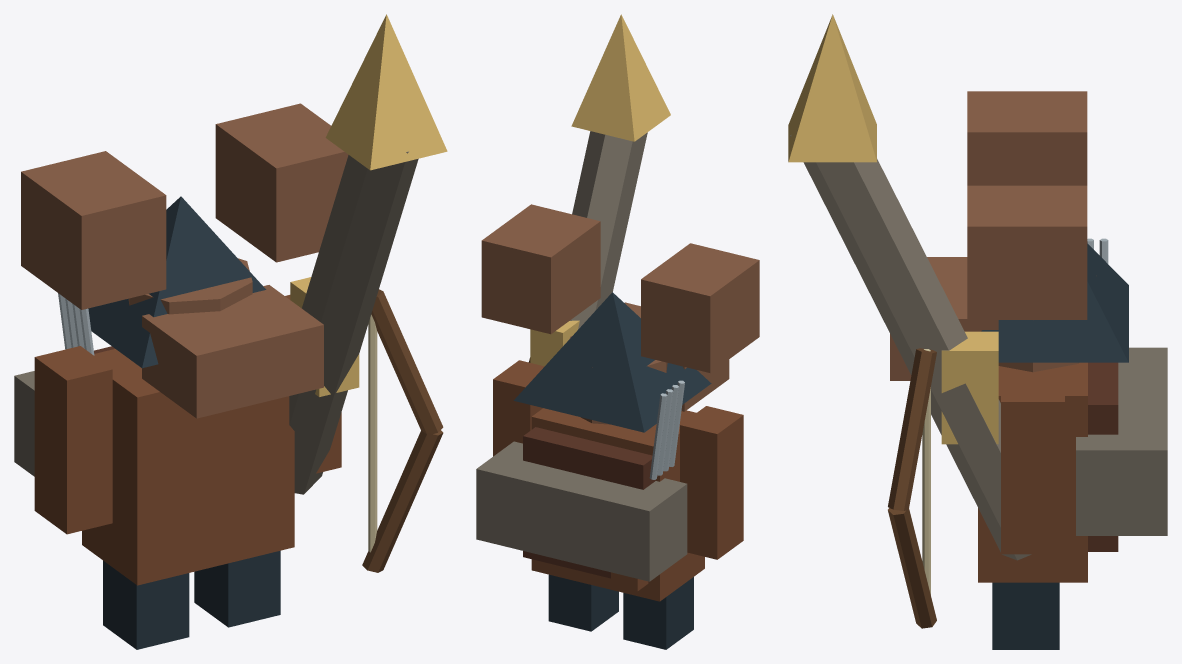
File: anti-air-infantry.obj
3 renders of one model, left to right at view 1: azimuth 30°, elevation 25°; view 2: azimuth 150°, elevation 25°; view 3: azimuth 270°, elevation 25°, orthographic. The views are drawn at different scales.
Visible parts, largest first — view 1: ranged; view 2: ranged; view 3: ranged.
Part boxes in pixels (box(x1,y1,x2,y2)): ranged: box(14, 14, 447, 649); ranged: box(476, 14, 759, 649); ranged: box(788, 14, 1167, 649).
Size of the model in its own units: 1.3 by 2.5 by 1.33.
